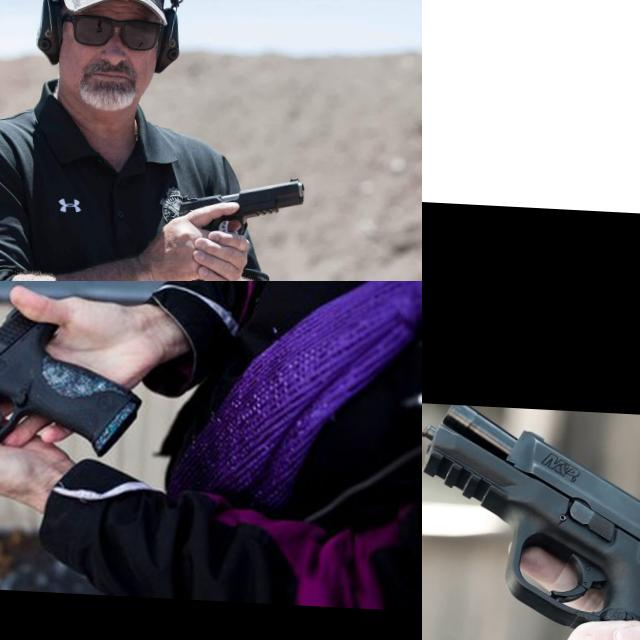handgun: (422, 403, 640, 640), (422, 0, 640, 184), (0, 287, 153, 505), (175, 168, 309, 242)
